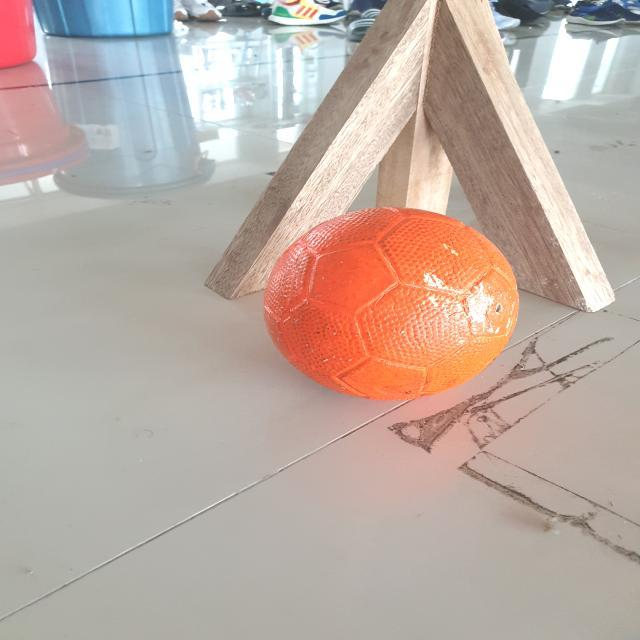bola: (247, 194, 528, 404)
